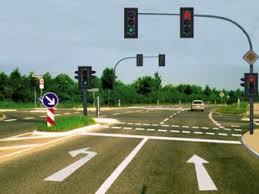signal: (124, 7, 138, 36), (180, 6, 193, 37), (245, 73, 256, 97), (82, 68, 89, 86)
